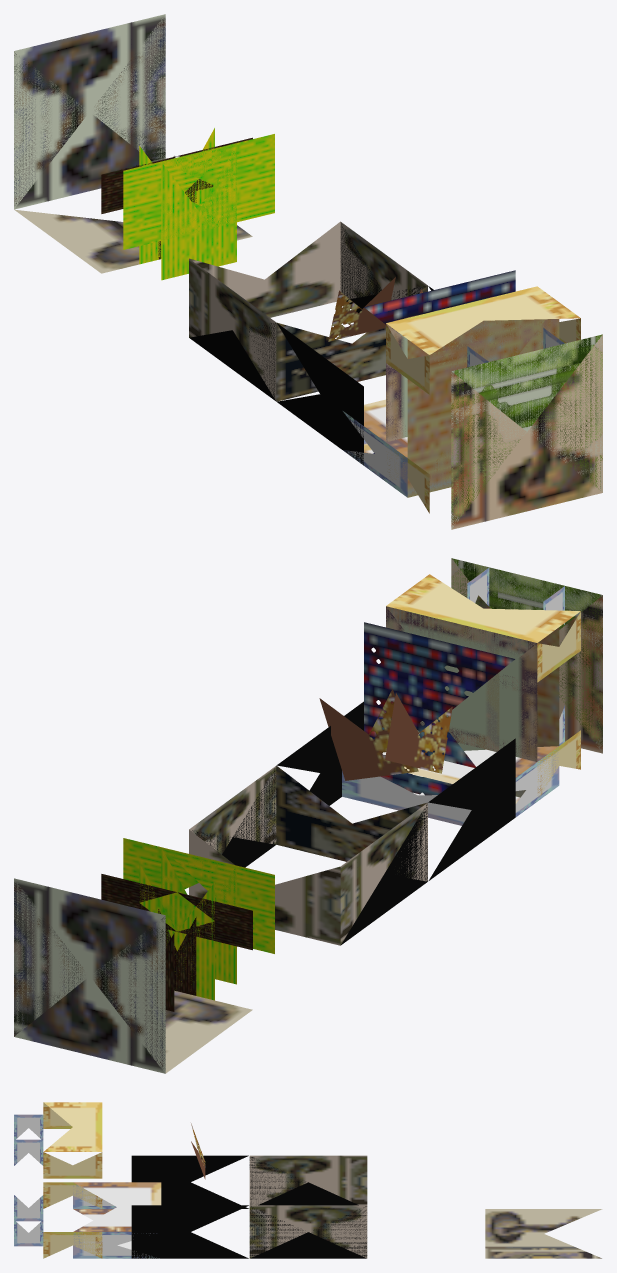
Rendered from town_geometry_type_09.obj.
3 renders of one model, top to bottom at view 1: azimuth 30°, elevation 25°; view 2: azimuth 150°, elevation 25°; view 3: azimuth 270°, elevation 25°, orthographic. The views are drawn at different scales.
Parts seen in each view (by area): view 1: face_list_000, face_list_014, face_list_022, face_list_018, face_list_026, face_list_029, face_list_021, face_list_033, face_list_034, face_list_028, face_list_051, face_list_038 (+14 smaller); view 2: face_list_014, face_list_026, face_list_022, face_list_018, face_list_045, face_list_051, face_list_044, face_list_028, face_list_047, face_list_027, face_list_058, face_list_048 (+11 smaller); view 3: face_list_022, face_list_026, face_list_023, face_list_058, face_list_027, face_list_051, face_list_052, face_list_049, face_list_047, face_list_050, face_list_044.
Part boxes in pixels (x1=…): face_list_000: x1=451, y1=335, x2=602, y2=529; face_list_014: x1=14, y1=14, x2=165, y2=208; face_list_022: x1=14, y1=209, x2=340, y2=400; face_list_018: x1=14, y1=15, x2=165, y2=209; face_list_026: x1=276, y1=286, x2=433, y2=465; face_list_029: x1=407, y1=319, x2=545, y2=497; face_list_021: x1=158, y1=144, x2=236, y2=280; face_list_033: x1=451, y1=334, x2=602, y2=518; face_list_034: x1=162, y1=134, x2=274, y2=240; face_list_028: x1=101, y1=143, x2=236, y2=249; face_list_051: x1=386, y1=286, x2=580, y2=441; face_list_038: x1=480, y1=344, x2=602, y2=488; face_list_014: x1=14, y1=878, x2=165, y2=1073; face_list_026: x1=276, y1=701, x2=515, y2=880; face_list_022: x1=165, y1=803, x2=427, y2=1073; face_list_018: x1=14, y1=879, x2=165, y2=1073; face_list_045: x1=364, y1=622, x2=514, y2=795; face_list_051: x1=386, y1=574, x2=580, y2=761; face_list_044: x1=319, y1=689, x2=452, y2=780; face_list_028: x1=162, y1=847, x2=274, y2=953; face_list_047: x1=386, y1=606, x2=580, y2=796; face_list_027: x1=192, y1=768, x2=427, y2=944; face_list_058: x1=342, y1=733, x2=559, y2=825; face_list_048: x1=386, y1=607, x2=537, y2=797; face_list_022: x1=249, y1=1155, x2=602, y2=1258; face_list_026: x1=131, y1=1155, x2=248, y2=1258; face_list_023: x1=249, y1=1205, x2=367, y2=1258; face_list_058: x1=73, y1=1182, x2=161, y2=1258; face_list_027: x1=249, y1=1157, x2=367, y2=1258; face_list_051: x1=44, y1=1102, x2=102, y2=1151; face_list_052: x1=14, y1=1139, x2=102, y2=1178; face_list_049: x1=14, y1=1220, x2=102, y2=1258; face_list_047: x1=14, y1=1182, x2=102, y2=1221; face_list_050: x1=14, y1=1102, x2=72, y2=1139; face_list_044: x1=191, y1=1123, x2=205, y2=1179.
Size of the model in its own units: 69 by 64 by 320.
30 materials, 30 textured.
